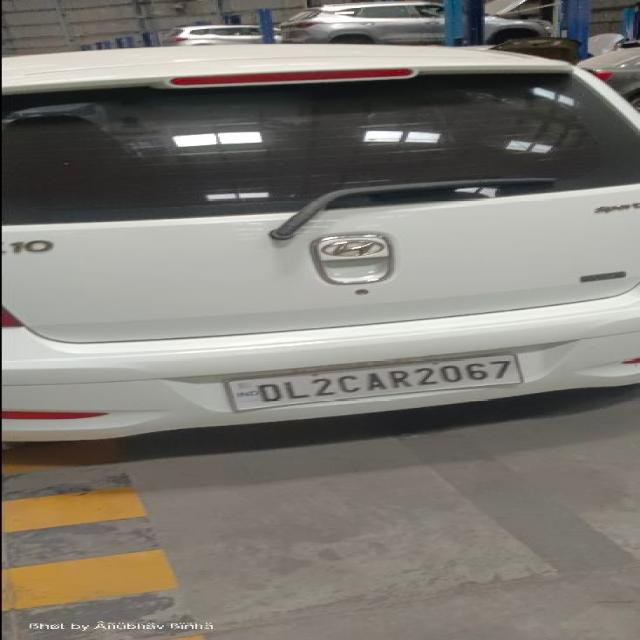license_plate: (222, 352, 523, 412)
